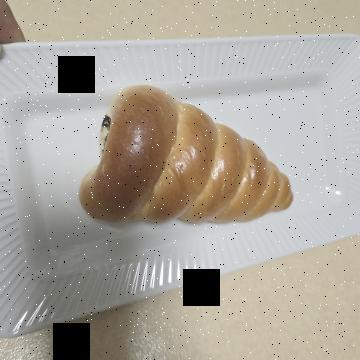cream horn: (85, 56, 263, 291)
